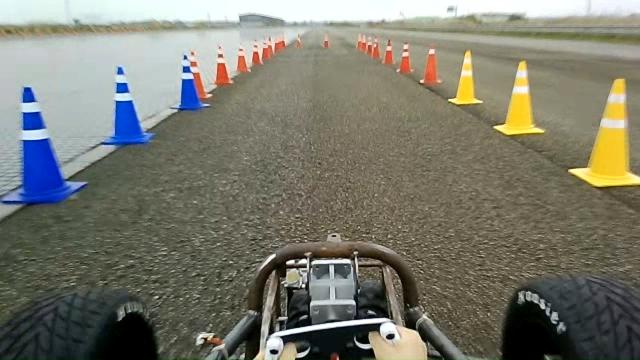blue cone: (1, 285, 158, 359), (2, 85, 87, 204), (100, 65, 155, 145), (170, 54, 210, 110)
red cone: (420, 38, 445, 92), (187, 51, 212, 98)
yellow cone: (567, 77, 639, 188), (492, 59, 544, 136), (447, 49, 483, 105)
